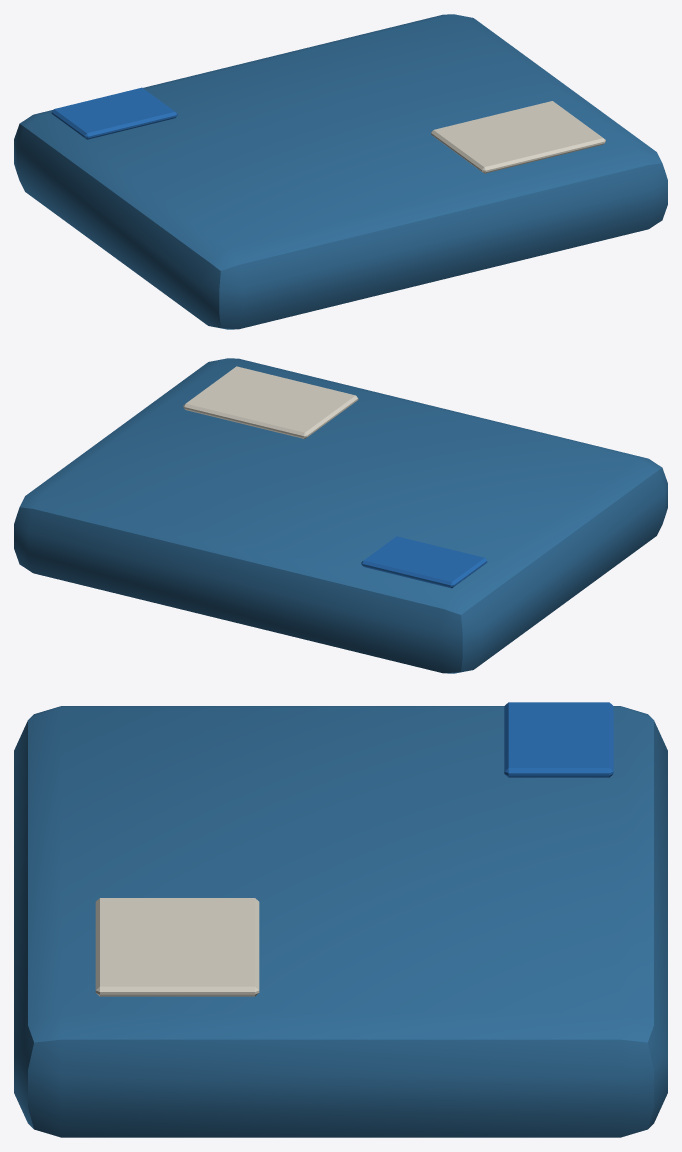
The model's file is sc-sterile-gown.glb.
3 views of the same model, one above another, from view 1: azimuth 30°, elevation 25°; view 2: azimuth 150°, elevation 25°; view 3: azimuth 270°, elevation 25° (orthographic). The views are drawn at different scales.
Visible parts, largest first — view 1: sc-sterile-gown; view 2: sc-sterile-gown; view 3: sc-sterile-gown.
Part boxes in pixels (x1,y1,x2,y2): sc-sterile-gown: (14, 14, 667, 329); sc-sterile-gown: (14, 358, 667, 673); sc-sterile-gown: (14, 702, 667, 1137).
Size of the model in its own units: 0.3 by 0.054 by 0.24.
